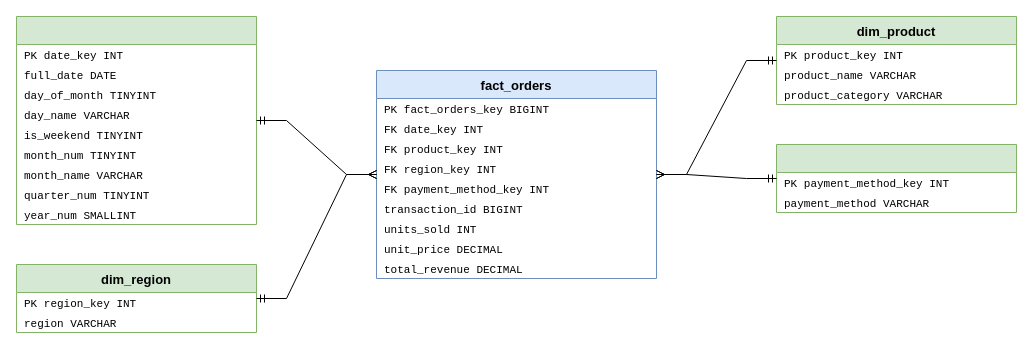
Image size: 1033x349. Some labels were removed from this diagram. Each missing label, with the box of its shape:
dim_date: (16, 16, 256, 224)
dim_payment_method: (776, 144, 1016, 212)
